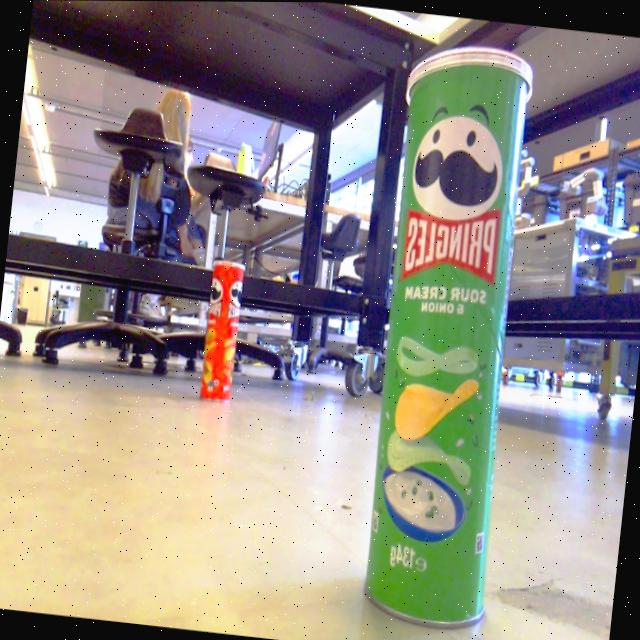greenpringles: (322, 29, 546, 640)
redpringles: (185, 244, 254, 411)
